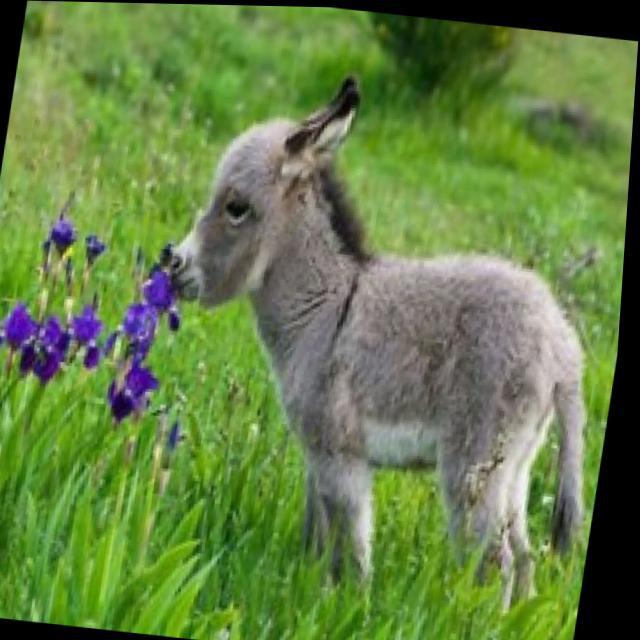Donkey: (120, 51, 638, 624)
